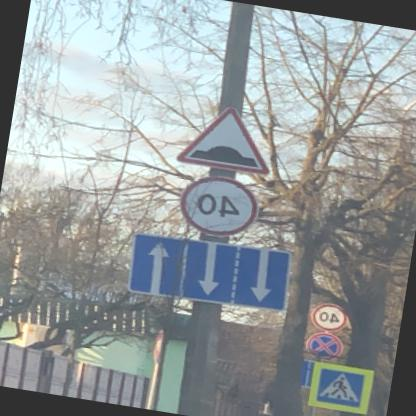crosswalk: (315, 364, 370, 409)
speedlimit: (176, 170, 262, 240), (313, 300, 351, 332)
